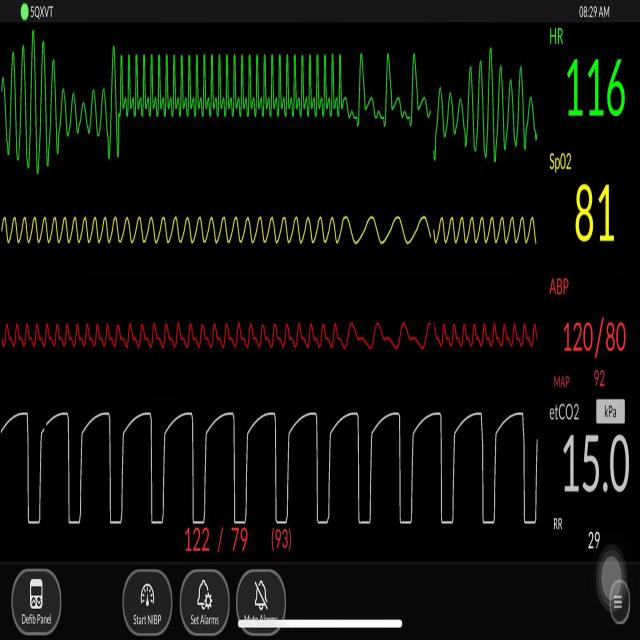danger: (108, 38, 344, 122), (457, 43, 538, 166), (8, 36, 62, 177)
